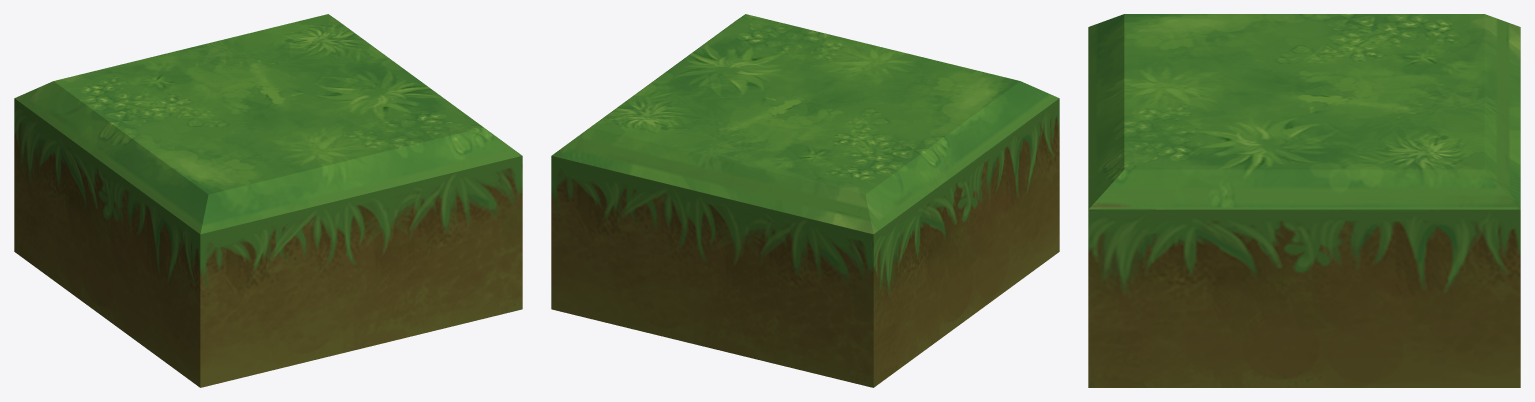
Rendered from tile_finalEmpty.FBX.
3 views of the same model, side by side, from view 1: azimuth 30°, elevation 25°; view 2: azimuth 150°, elevation 25°; view 3: azimuth 270°, elevation 25° (orthographic). The views are drawn at different scales.
Parts seen in each view (by area): view 1: Tile_ShapeTwo; view 2: Tile_ShapeTwo; view 3: Tile_ShapeTwo.
Part boxes in pixels (<box>): Tile_ShapeTwo: <box>14,14,522,387</box>; Tile_ShapeTwo: <box>551,14,1059,387</box>; Tile_ShapeTwo: <box>1088,14,1520,387</box>.
Size of the model in its own units: 24.96 by 13.05 by 24.96.
Materials: 1 (1 with a texture image).
